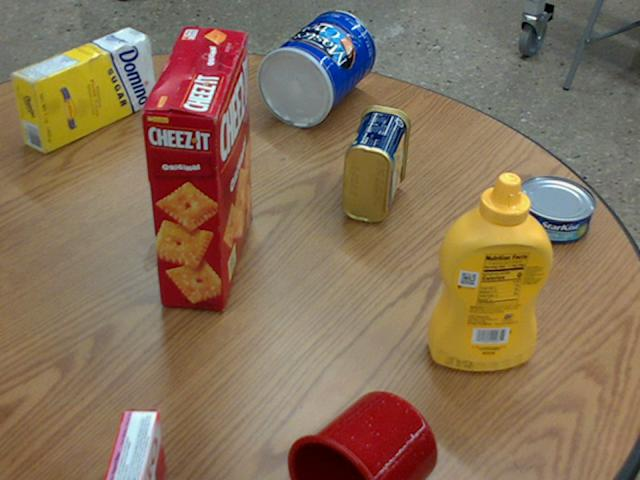cracker_box: (142, 27, 249, 310)
gelatin_box: (99, 410, 162, 479)
master_chef_can: (255, 10, 374, 126)
mug: (284, 392, 435, 479)
mustard_bottle: (426, 172, 551, 369)
potted_meat_can: (342, 104, 409, 221)
sugar_box: (11, 26, 155, 152)
tuna_fish_can: (511, 175, 593, 244)
